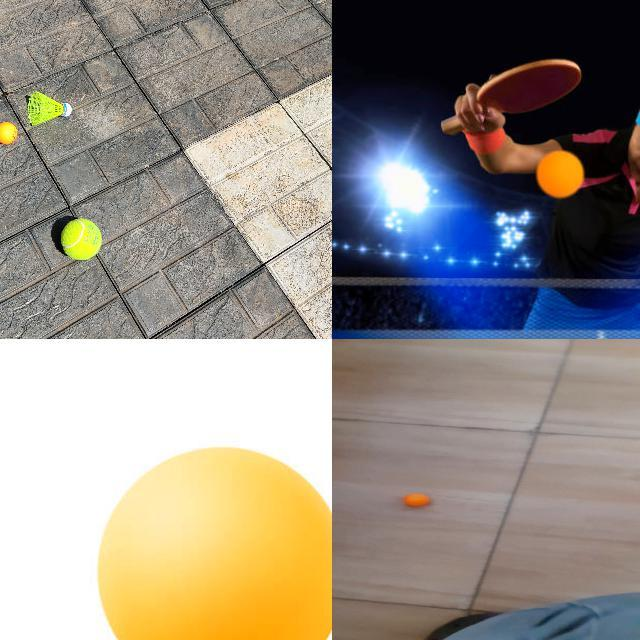ping-pong-ball: (97, 444, 331, 639), (534, 149, 584, 197), (0, 122, 17, 145), (405, 494, 432, 507)
